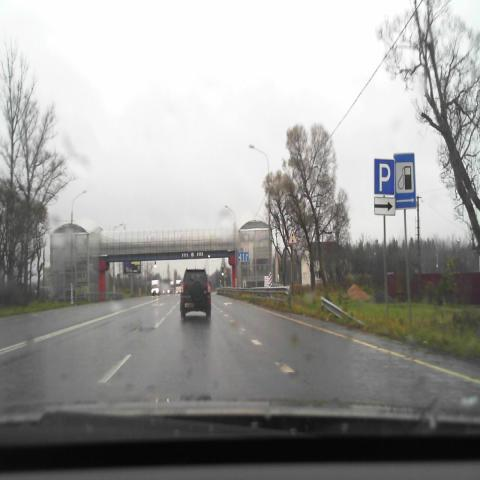6_4: (374, 158, 395, 195)
8_3_1: (374, 197, 396, 215)
